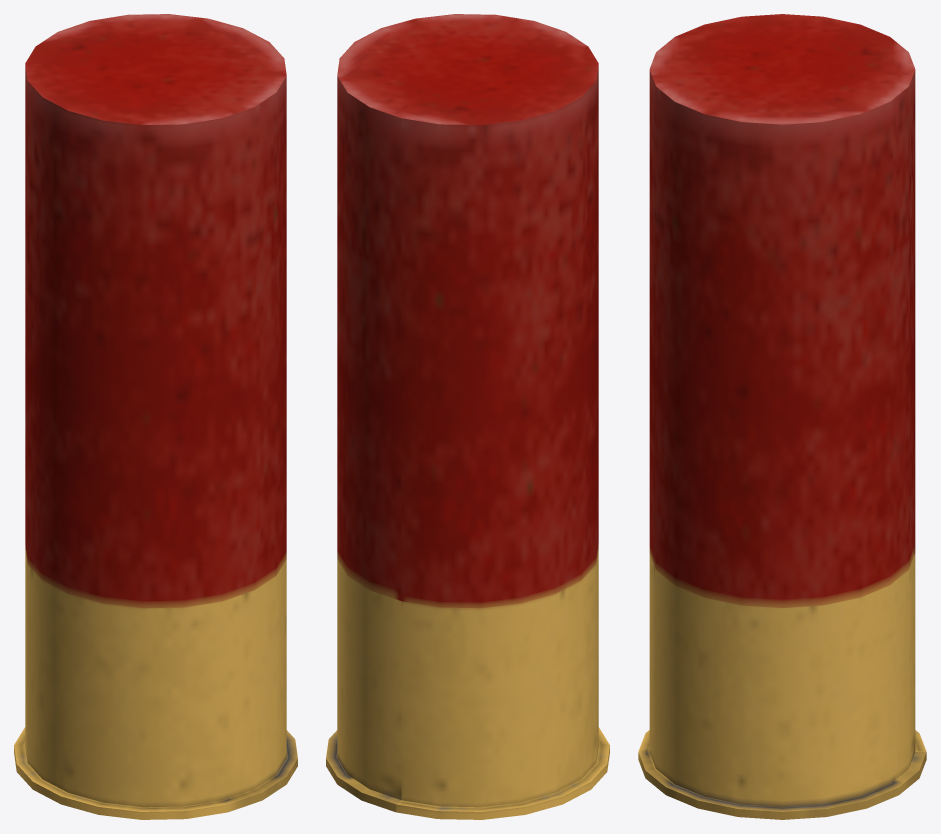
The model's file is shotgun shell.Obj.
The picture shows the model from 3 angles, left to right: view 1: azimuth 30°, elevation 25°; view 2: azimuth 150°, elevation 25°; view 3: azimuth 270°, elevation 25°; orthographic projection.
Parts seen in each view (by area): view 1: pCylinder1; view 2: pCylinder1; view 3: pCylinder1.
Part boxes in pixels (<box>): pCylinder1: <box>14,14,297,819</box>; pCylinder1: <box>326,14,609,819</box>; pCylinder1: <box>638,14,926,819</box>.
Bounding box in the file's own units: 91.67 × 245 × 92.88.
